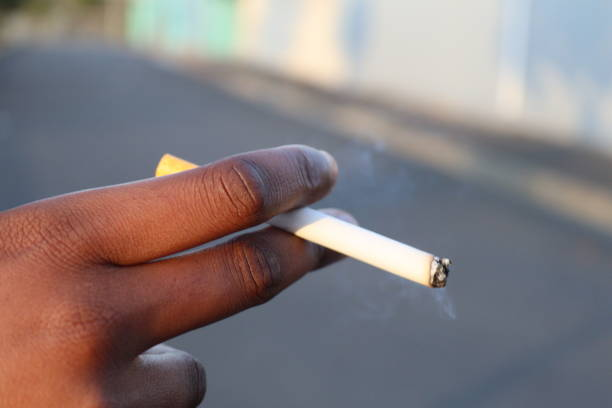cigarette: (155, 153, 449, 287)
